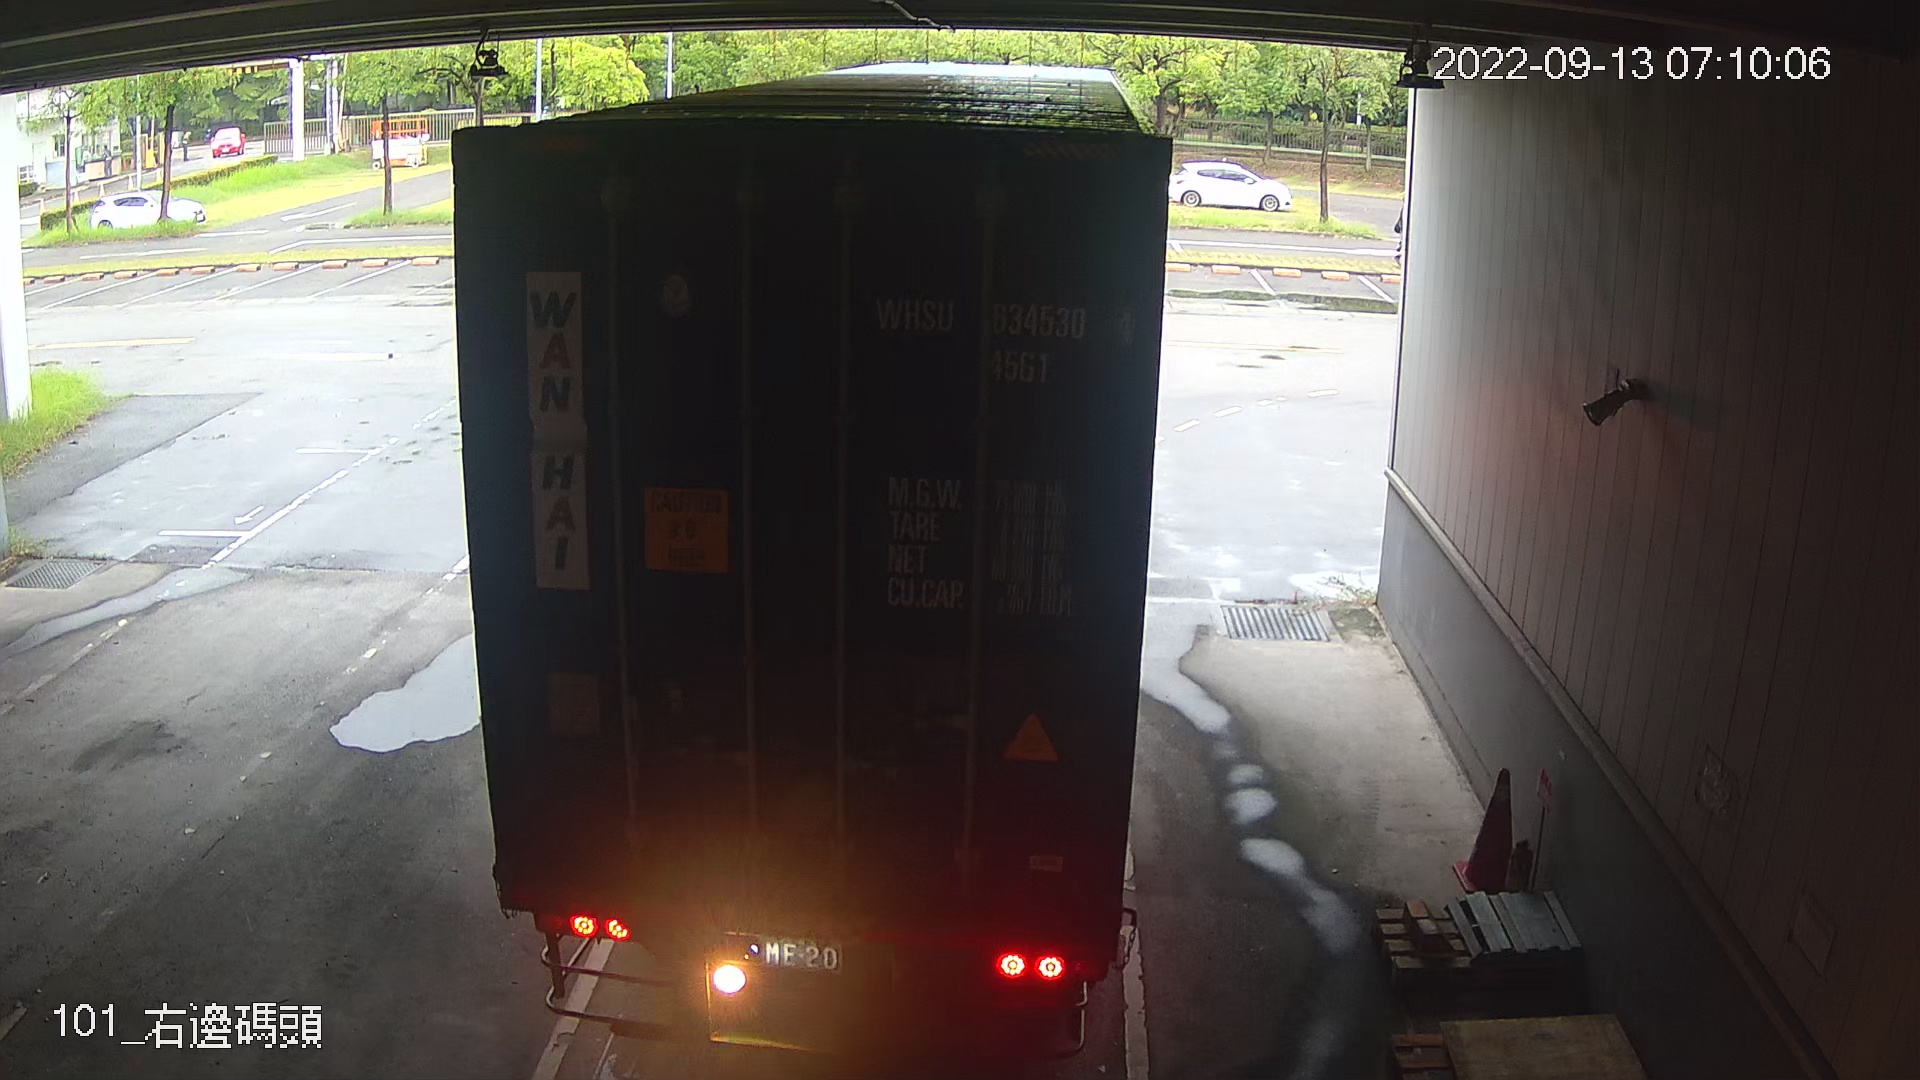container: (856, 280, 1145, 388)
